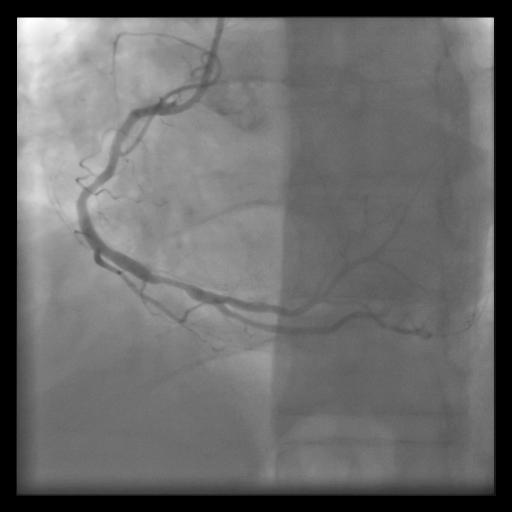Stenosis: (150, 265, 195, 304)
